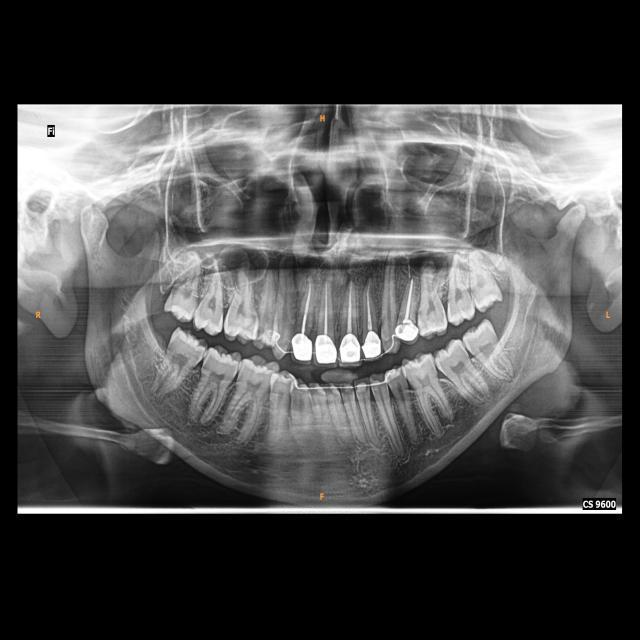kanal-tedavisi: (362, 284, 378, 339), (300, 281, 314, 337), (318, 280, 332, 336), (344, 281, 359, 333), (402, 277, 414, 327)
kaplama: (314, 334, 338, 365), (340, 334, 361, 367), (292, 332, 314, 363), (360, 330, 385, 356), (394, 319, 421, 341)
